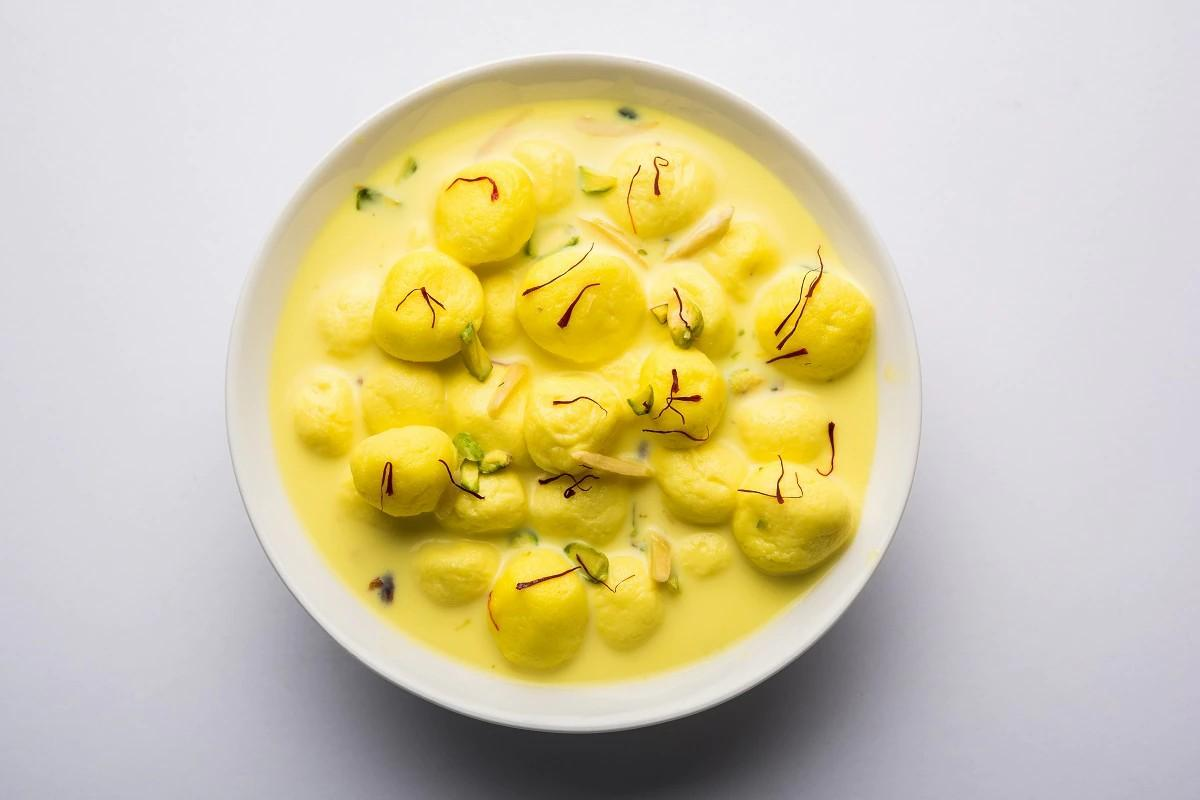RasMalai: (267, 109, 885, 694)
